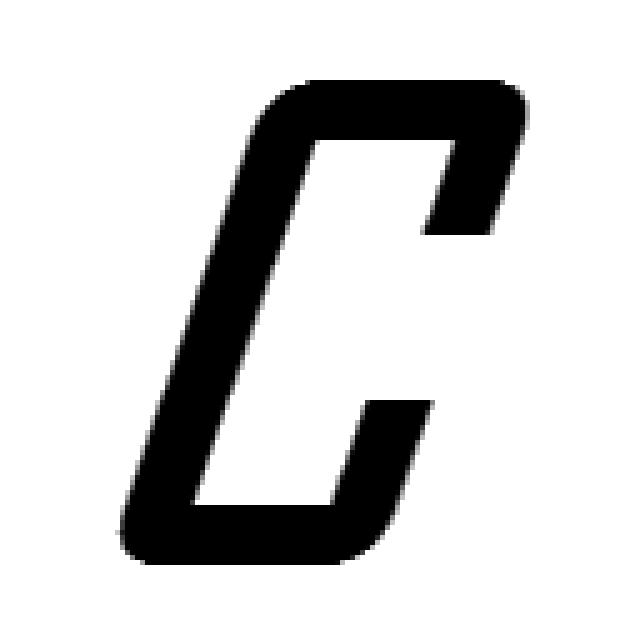C: (115, 80, 530, 570)
